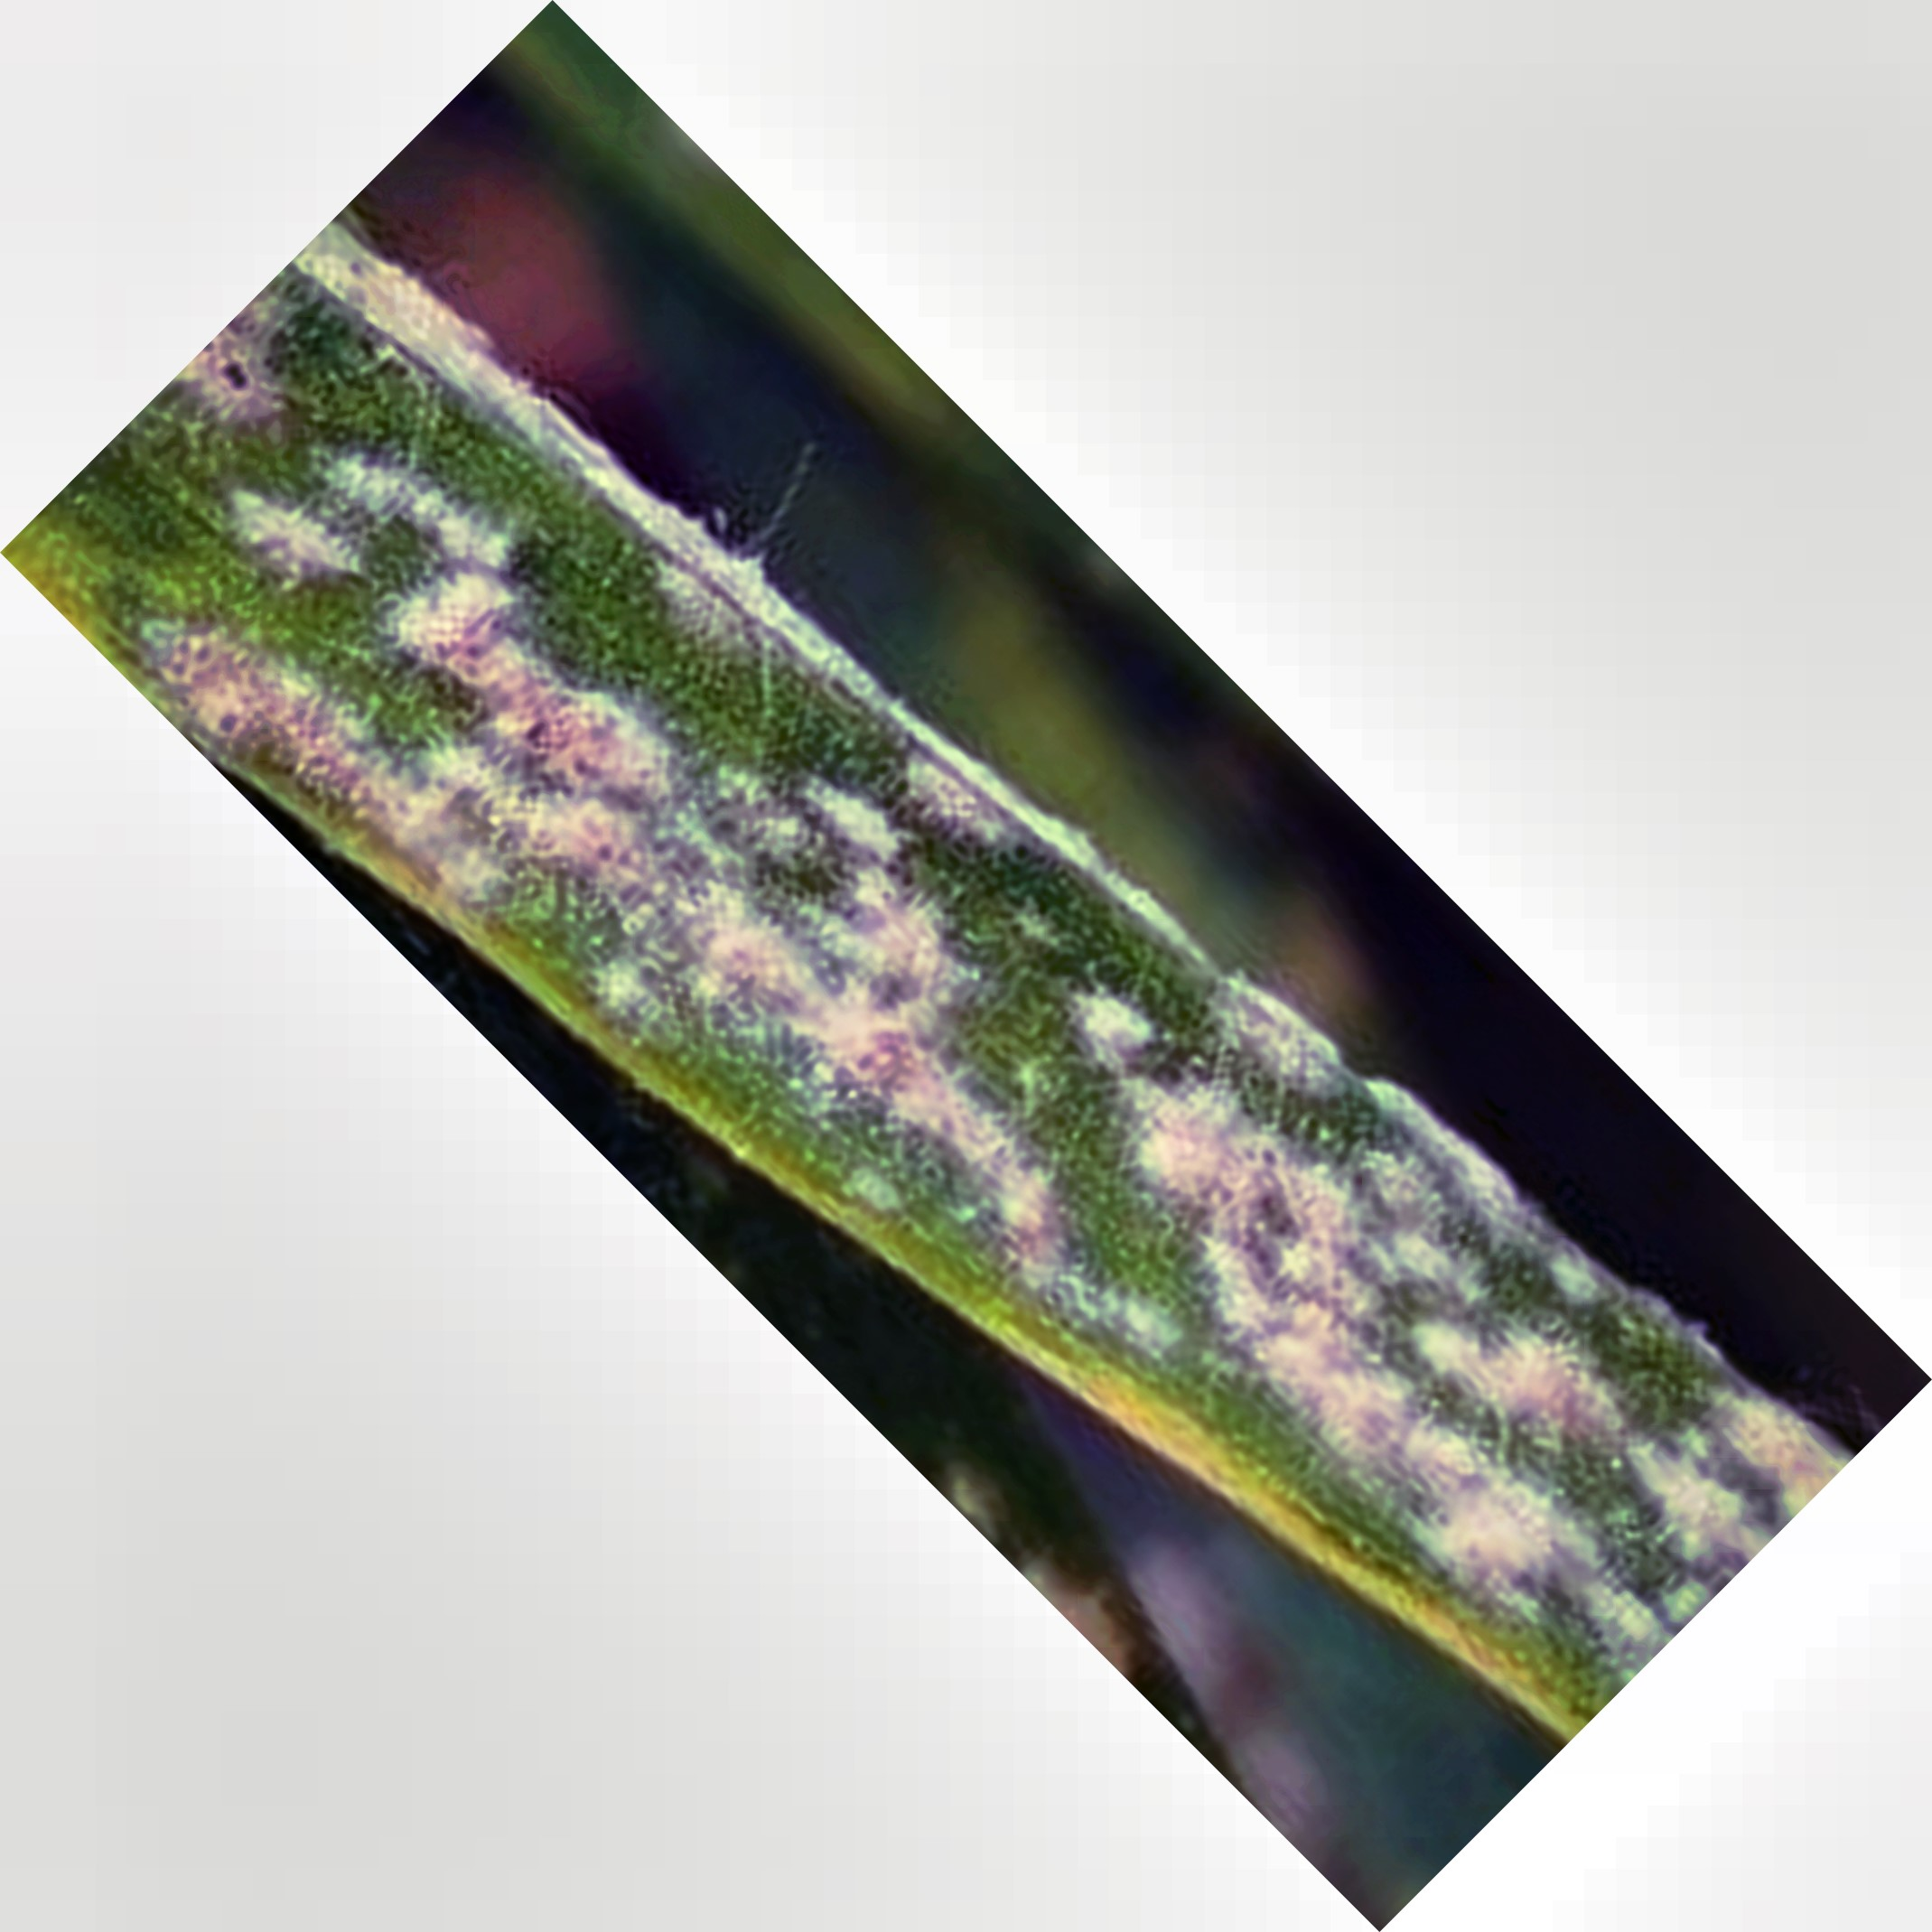Powdery Mildew: (311, 561, 1592, 1583)
